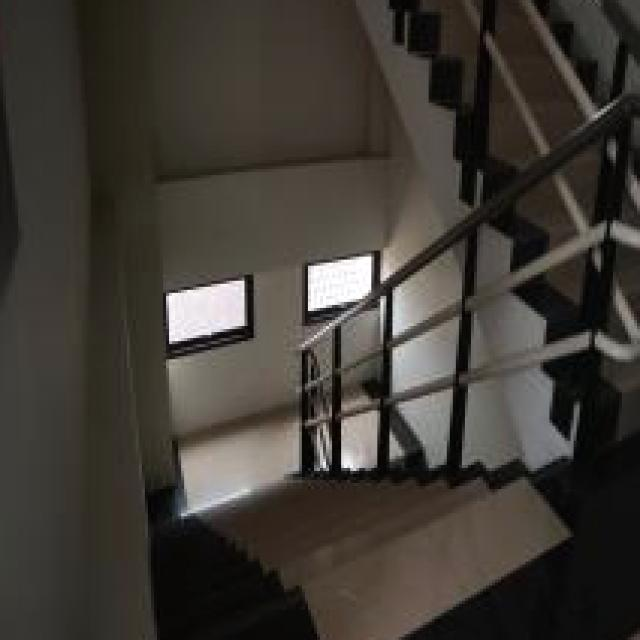downstair: (149, 484, 568, 640)
